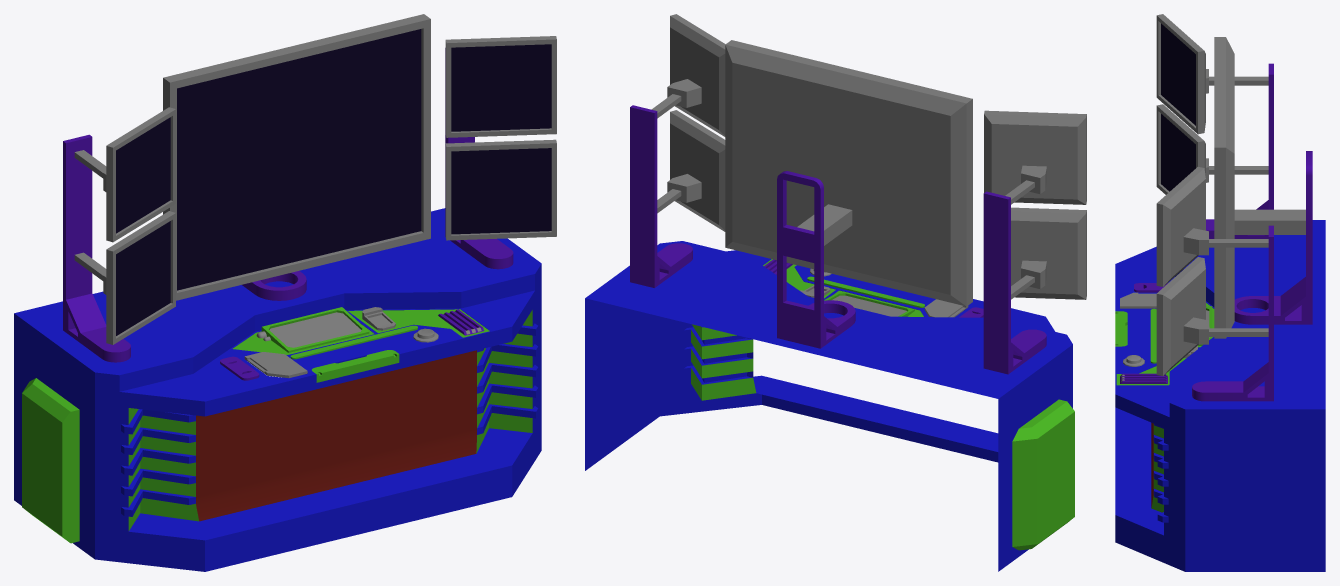
Rendered from Pantalla.fbx.
The picture shows the model from 3 angles, left to right: view 1: azimuth 30°, elevation 25°; view 2: azimuth 150°, elevation 25°; view 3: azimuth 270°, elevation 25°; orthographic projection. The views are drawn at different scales.
Parts seen in each view (by area): view 1: LP_CCTV.006, LP_CCTV.014, LP_CCTV, LP_CCTV_screen.001, LP_CCTV.134, LP_CCTV.135, LP_CCTV.013, LP_CCTV.015, LP_CCTV.019; view 2: LP_CCTV.006, LP_CCTV.014, LP_CCTV, LP_CCTV_screen.001; view 3: LP_CCTV.006, LP_CCTV, LP_CCTV.014, LP_CCTV.015, LP_CCTV.138, LP_CCTV.013, LP_CCTV.019, LP_CCTV.135.
Boxes of the visible parts, <box> form: LP_CCTV.006: <box>14,208,541,571</box>; LP_CCTV.014: <box>163,14,430,300</box>; LP_CCTV: <box>63,36,556,362</box>; LP_CCTV_screen.001: <box>269,312,361,347</box>; LP_CCTV.134: <box>232,307,374,355</box>; LP_CCTV.135: <box>348,309,489,337</box>; LP_CCTV.013: <box>312,350,399,382</box>; LP_CCTV.015: <box>244,352,307,378</box>; LP_CCTV.019: <box>290,325,417,359</box>; LP_CCTV.006: <box>585,241,1074,571</box>; LP_CCTV.014: <box>725,40,972,348</box>; LP_CCTV: <box>630,14,1086,374</box>; LP_CCTV_screen.001: <box>832,295,906,316</box>; LP_CCTV.006: <box>1115,220,1325,571</box>; LP_CCTV: <box>1156,14,1273,401</box>; LP_CCTV.014: <box>1214,37,1312,338</box>; LP_CCTV.015: <box>1120,292,1156,308</box>; LP_CCTV.138: <box>1120,373,1167,383</box>; LP_CCTV.013: <box>1115,311,1127,346</box>; LP_CCTV.019: <box>1150,308,1156,363</box>; LP_CCTV.135: <box>1116,358,1186,385</box>.
Size of the model in its own units: 82.11 by 74.48 by 37.
